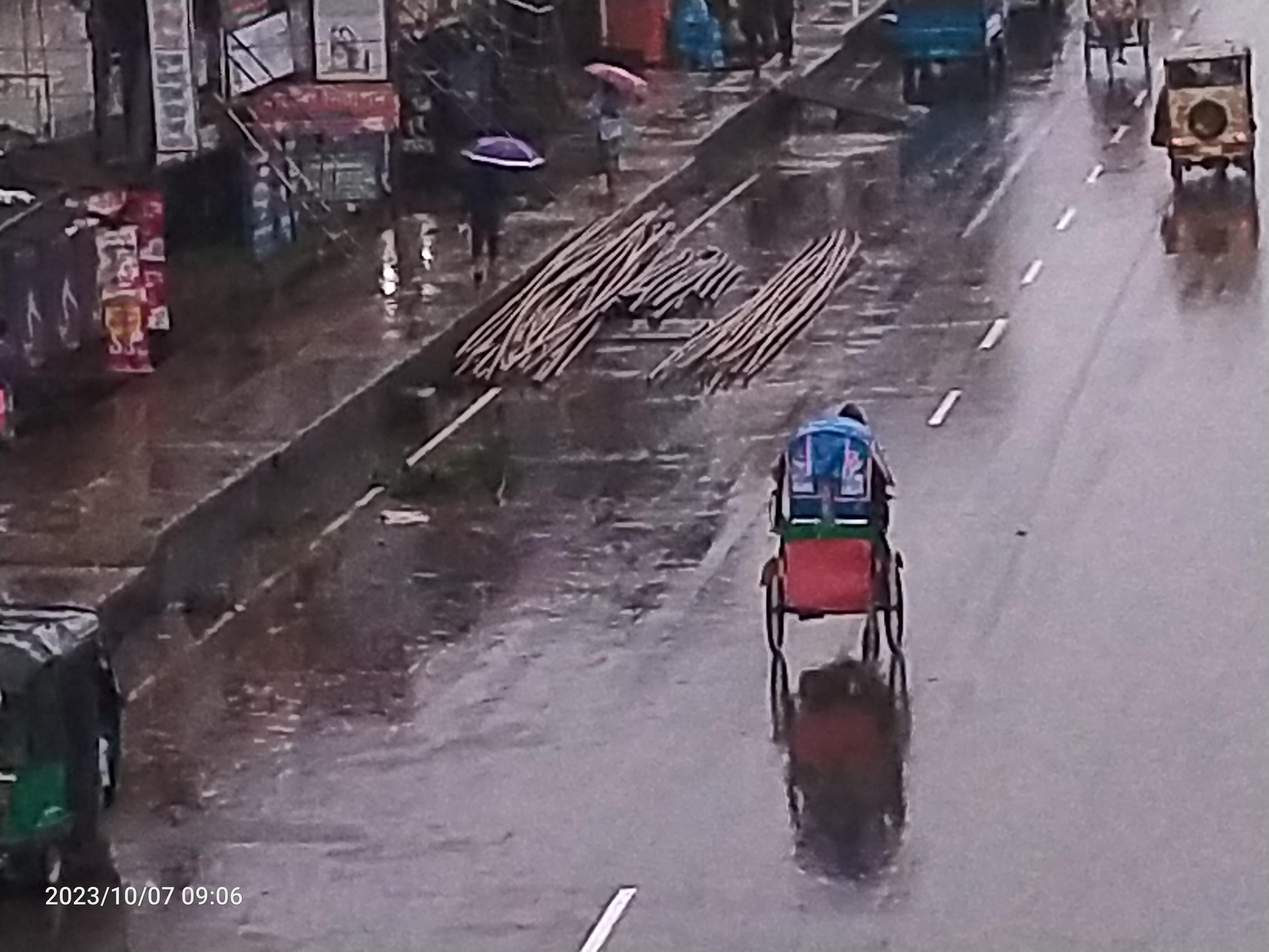Car: (707, 367, 947, 775), (1147, 36, 1269, 220), (1056, 0, 1180, 116)
Truck: (891, 0, 1038, 121)
